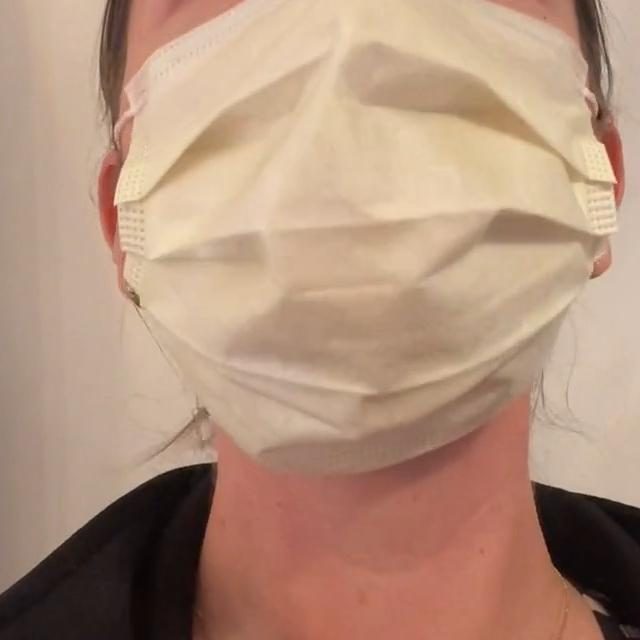Mask: (102, 0, 625, 466)
Person: (0, 0, 640, 640)
